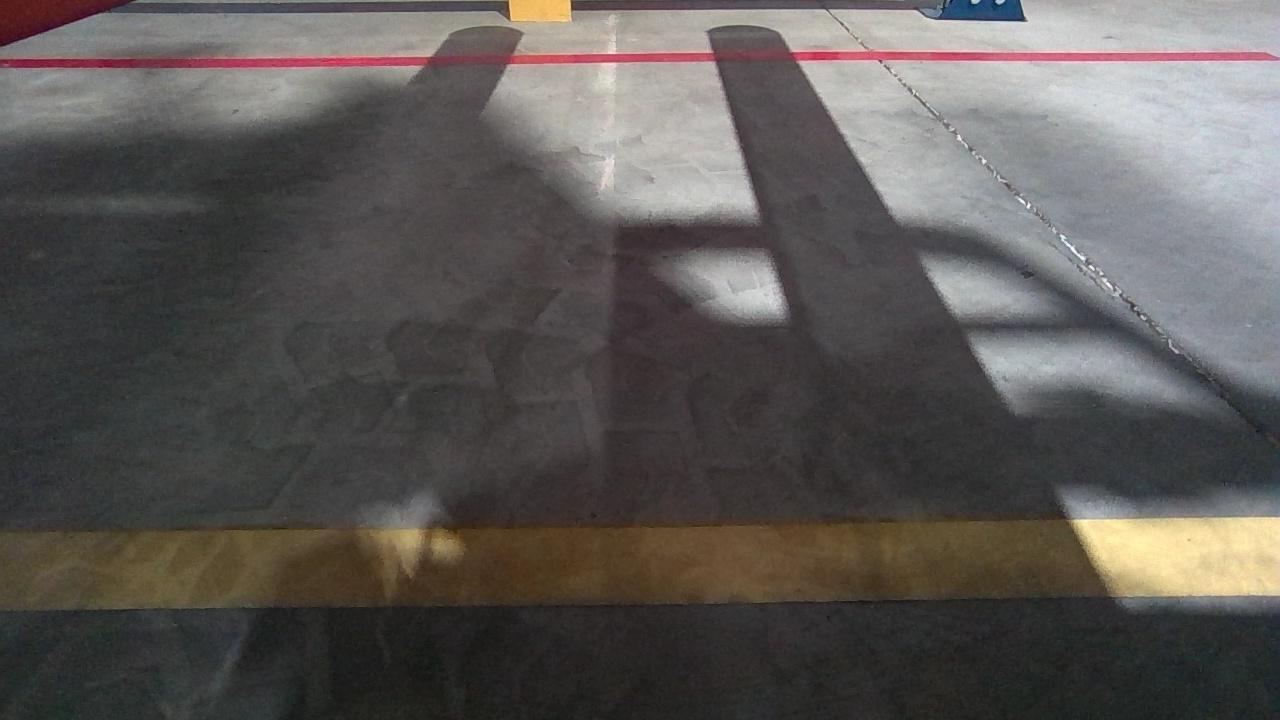orange_strip: (510, 0, 571, 20)
red_line: (5, 48, 1275, 70)
yellow_line: (0, 514, 1280, 602)
